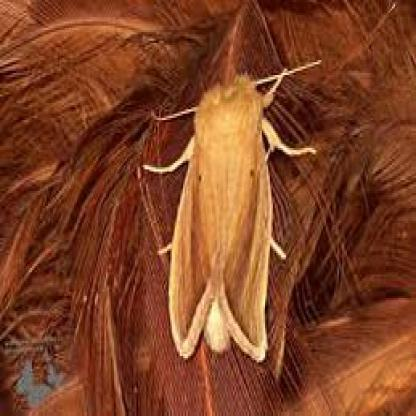stem-borer: (161, 68, 279, 367)
